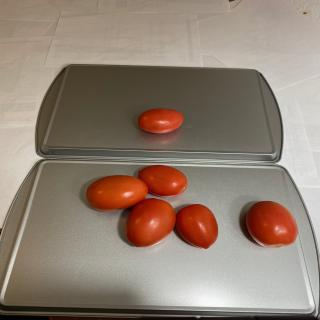Tomato: (125, 198, 176, 247), (246, 200, 298, 248), (86, 174, 148, 212), (176, 204, 218, 249), (138, 165, 188, 197), (138, 108, 185, 134)
